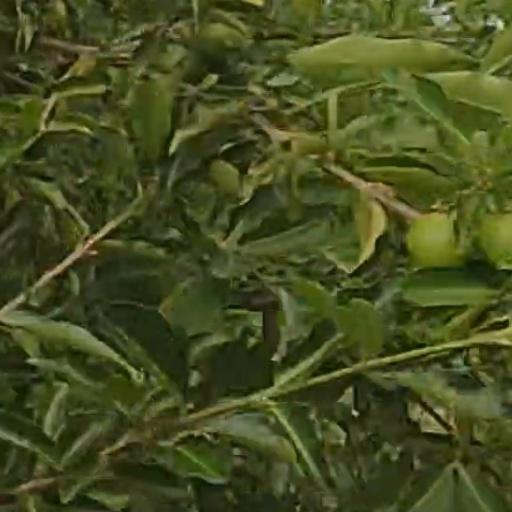acerola_verde: (409, 212, 460, 263), (482, 216, 512, 258)
